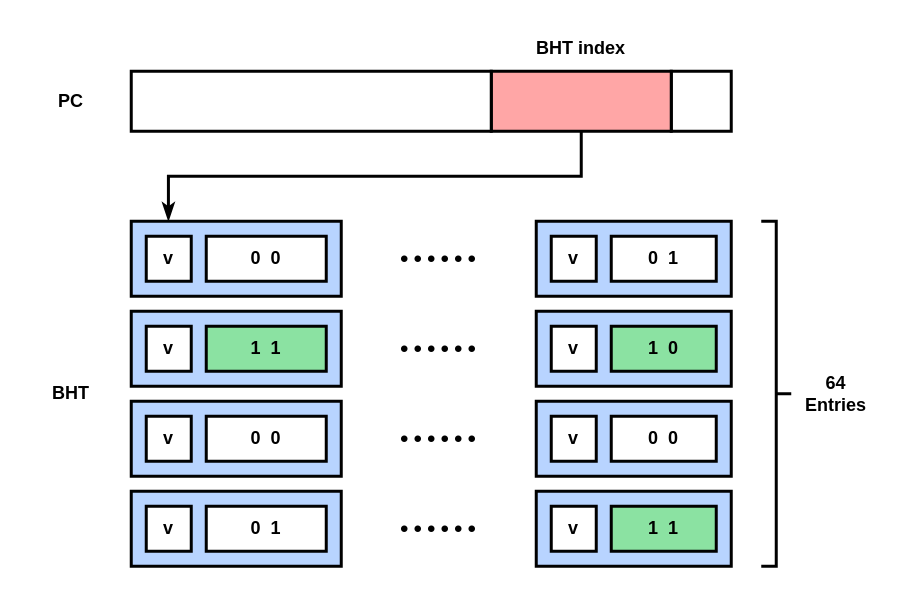
The diagram is 906 pixels wide and 593 high, and some of its shapes have lost their labels. Here are the shapes that lost their labels. From the top down, the centre of each, then its label:
At point 310,100: "24bits".
At point 580,100: "6bits".
At point 700,100: "2bits".
